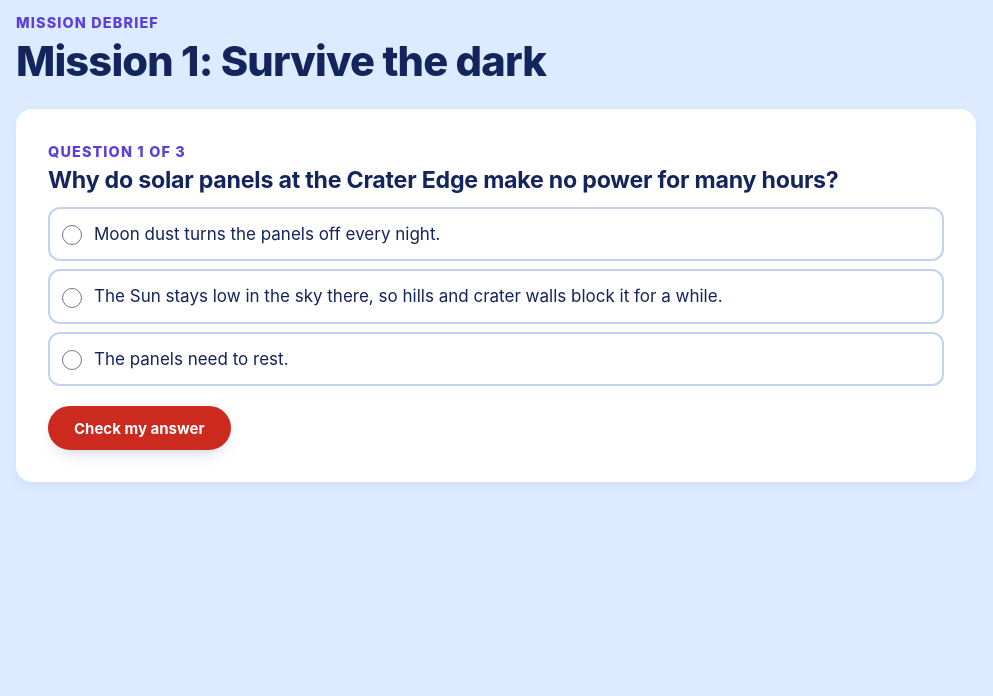
it: Debrief › a wrong answer explains why, gives a hint and the source, and allows a free retry
Check: the heading "Why do solar panels at the Crater Edge make no power for many hours?" is shown, box [48, 167, 839, 195]
Click the radio button labelled "Moon dust turns the panels off every night." at (72, 235), box [62, 225, 82, 245]
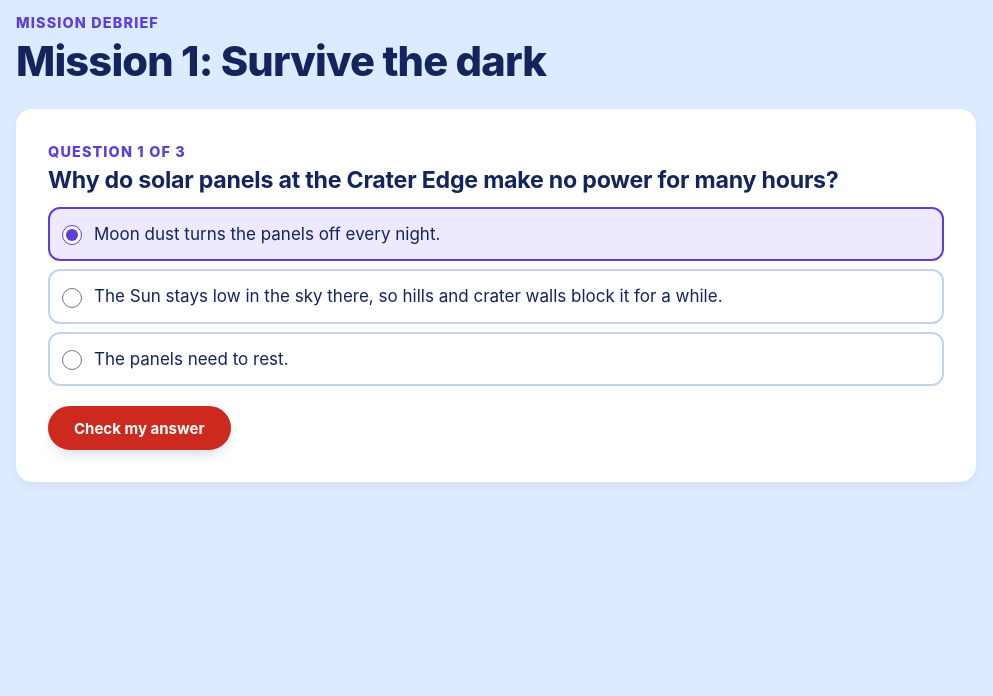
Click the button "Check my answer" at (139, 428), box [48, 406, 230, 450]
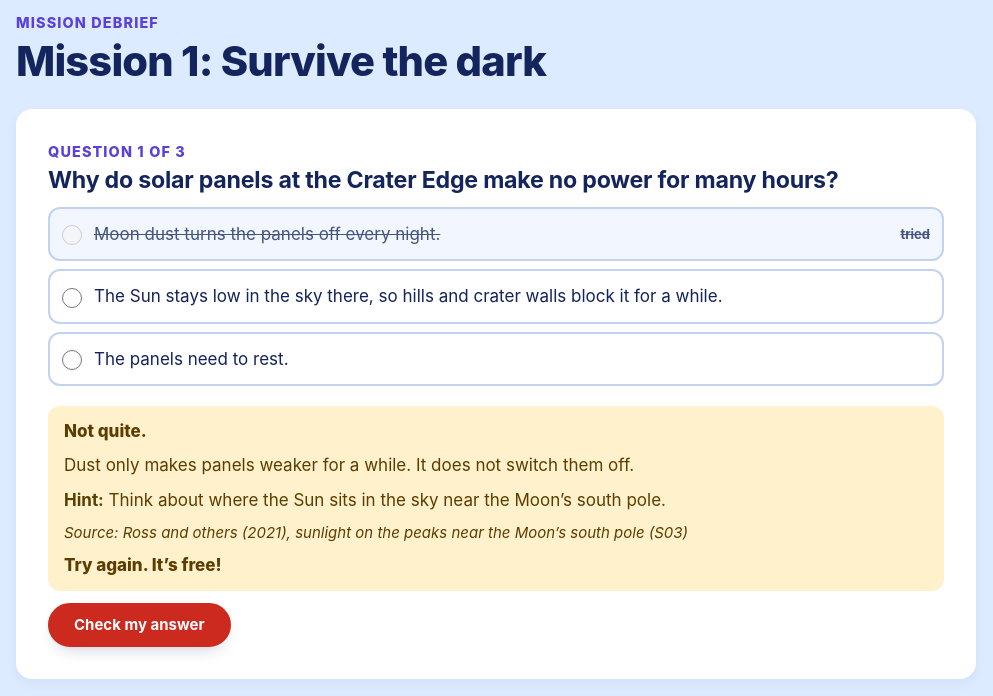
Check: the message shows "Not quite.", box [64, 421, 147, 441]
Check: the message shows "Dust only makes panels weaker for a while. It does not switch them off.", box [64, 456, 634, 476]
Check: the message shows "Think about where the Sun sits in the sky near the Moon’s south pole.", box [109, 490, 666, 510]
